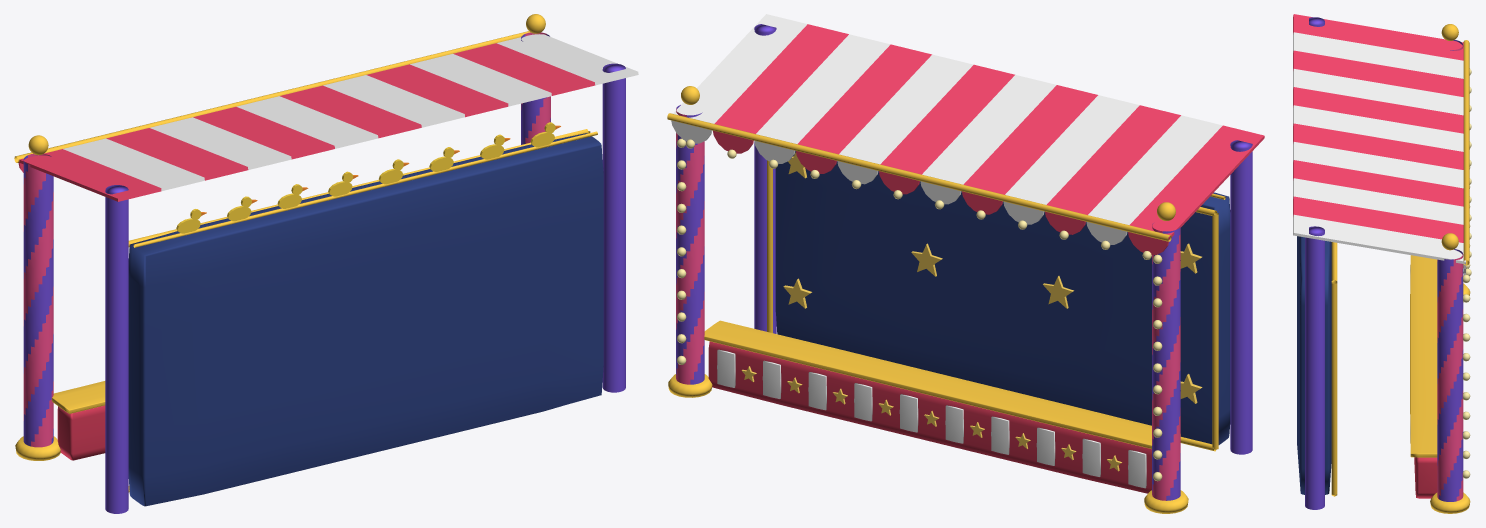
The model's file is LobbyGalleryBooth.obj.
3 views of the same model, side by side, from view 1: azimuth 30°, elevation 25°; view 2: azimuth 150°, elevation 25°; view 3: azimuth 270°, elevation 25° (orthographic). The views are drawn at different scales.
Parts seen in each view (by area): view 1: Back, Frame, AwningA, AwningB, Trim, Stripes, Ducks, Counter; view 2: Back, AwningA, AwningB, Trim, Frame, Counter, Stripes, Panels, Stars, Bulbs; view 3: AwningB, AwningA, Trim, Frame, Back, Stripes, Counter, Bulbs.
Boxes of the visible parts, x1,y1,x2,y2 form: Back: (128, 133, 603, 506); Frame: (23, 34, 625, 513); AwningA: (18, 43, 595, 201); AwningB: (63, 34, 638, 190); Trim: (14, 14, 597, 492); Stripes: (23, 32, 550, 447); Ducks: (176, 122, 555, 233); Counter: (57, 405, 105, 460); Back: (775, 151, 1230, 444); AwningA: (713, 24, 1264, 254); AwningB: (671, 14, 1222, 244); Trim: (667, 86, 1225, 513); Frame: (676, 24, 1252, 500); Counter: (708, 341, 1151, 493); Stripes: (676, 108, 1180, 500); Panels: (717, 349, 1146, 488); Stars: (741, 152, 1202, 471); Bulbs: (677, 138, 1162, 481); AwningB: (1293, 32, 1465, 274); AwningA: (1293, 14, 1463, 242); Trim: (1331, 24, 1470, 513); Frame: (1305, 17, 1463, 509); Back: (1297, 236, 1331, 494); Stripes: (1437, 44, 1463, 500); Counter: (1414, 457, 1437, 498); Bulbs: (1463, 68, 1471, 478).
Size of the model in its own units: 37.2 by 21.3 by 12.42.
